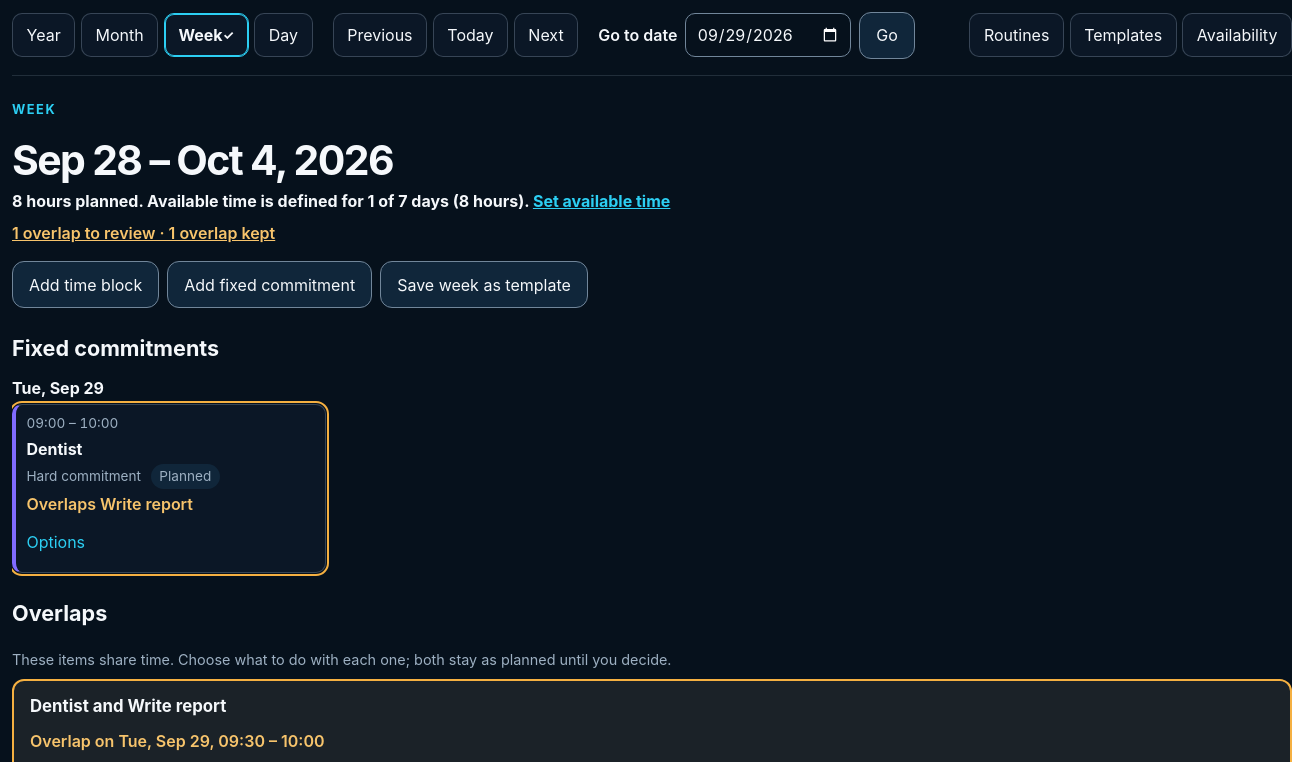
Test case: Plan shell › switches horizons keeping the date and marks the active horizon
The width and height of the screenshot is (1292, 762).
Click the link "Day". click: x=283, y=35
box: [254,13,313,57]
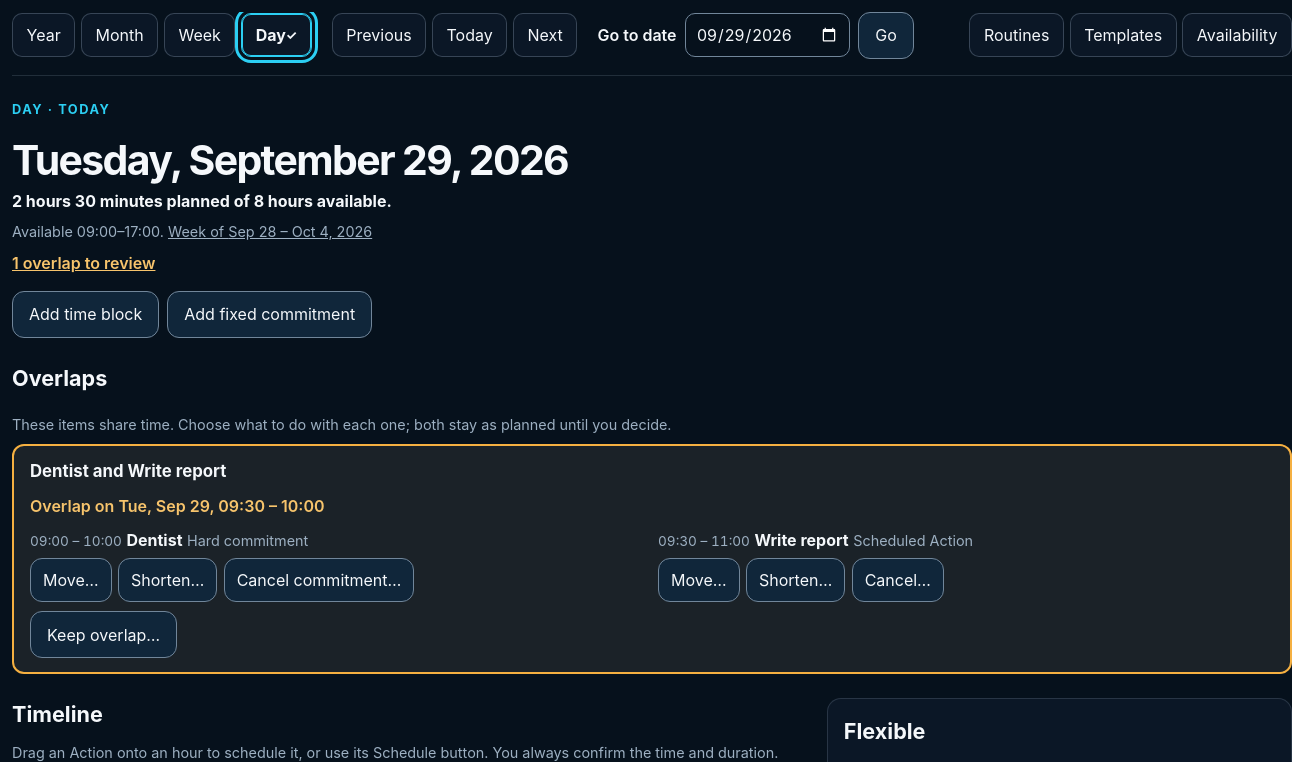
Now the heading "Tuesday, September 29, 2026" is shown, box [12,135,568,185]
